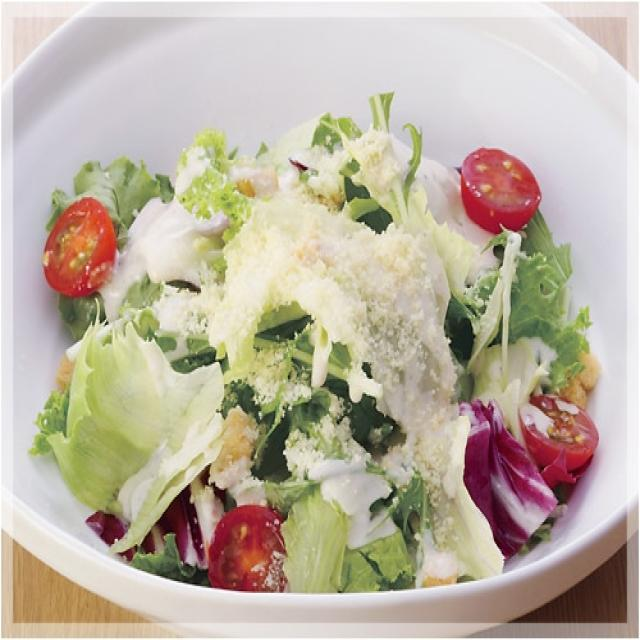蔬菜料理: (7, 12, 634, 628)
